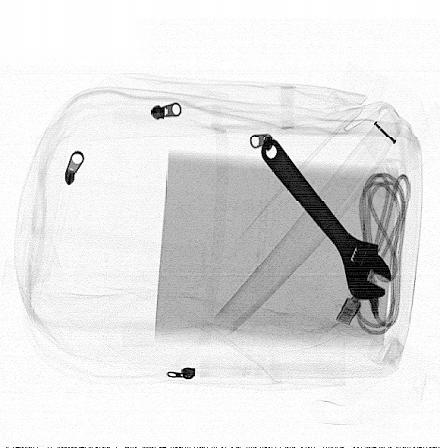Wrench: (260, 137, 392, 302)
